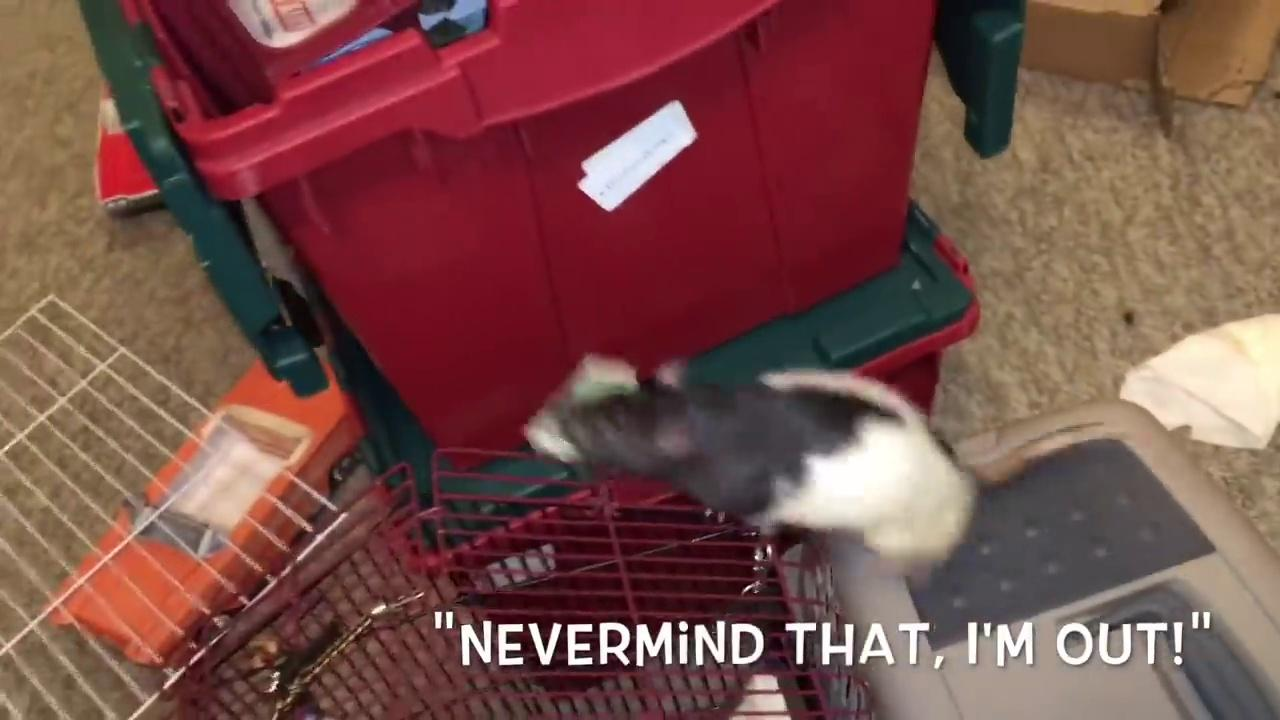rat: (559, 364, 979, 581)
